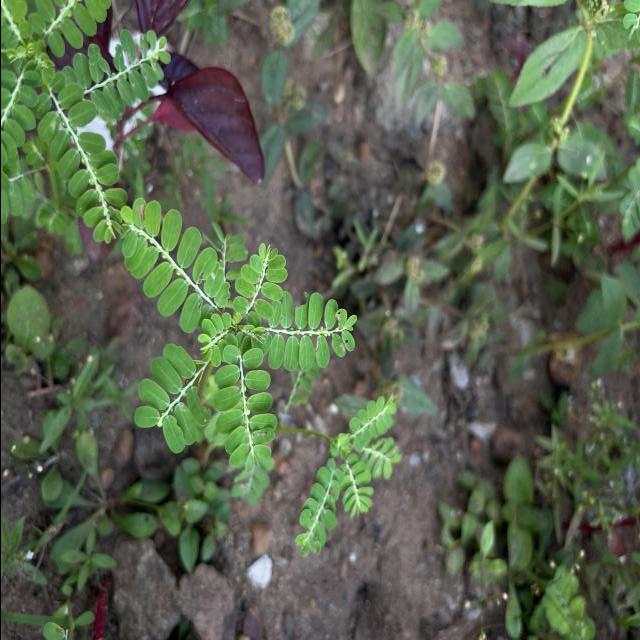Phyllanthus niruri: (30, 70, 130, 253), (116, 195, 226, 333), (132, 340, 212, 456), (211, 345, 277, 481), (264, 291, 360, 375), (230, 242, 289, 326)
